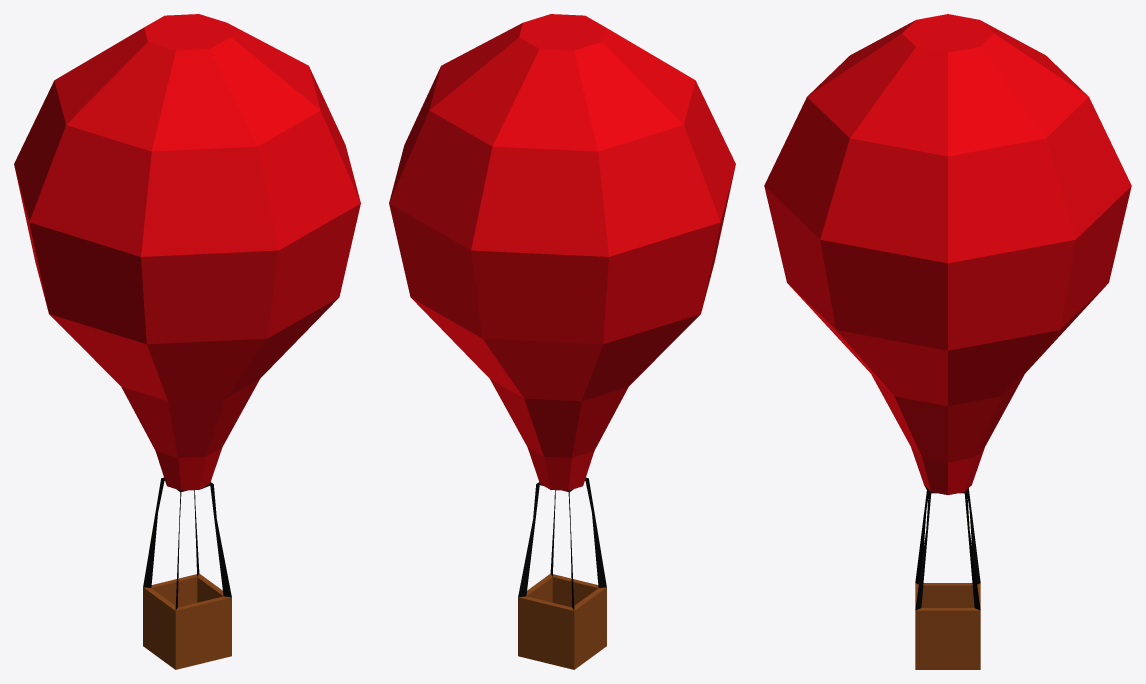
The model's file is ballong.fbx.
3 views of the same model, side by side, from view 1: azimuth 30°, elevation 25°; view 2: azimuth 150°, elevation 25°; view 3: azimuth 270°, elevation 25° (orthographic).
Visible parts, largest first — view 1: Cube; view 2: Cube; view 3: Cube.
Part boxes in pixels (x1,y1,x2,y2): Cube: [14, 14, 360, 669]; Cube: [389, 14, 735, 669]; Cube: [764, 14, 1131, 669].
Bounding box in the file's own units: 1123 × 2100 × 1123.
